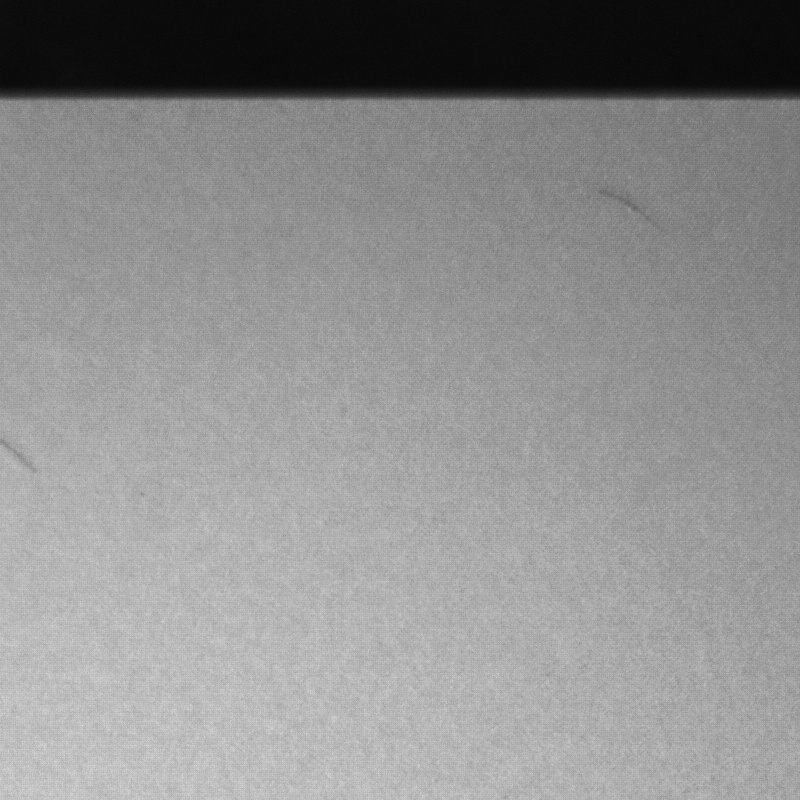defect: (598, 182, 661, 228), (2, 438, 36, 474)
